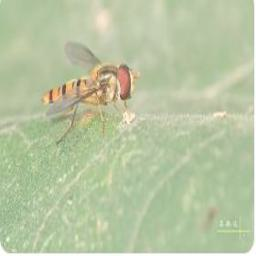liriomyza: (40, 40, 140, 145)
